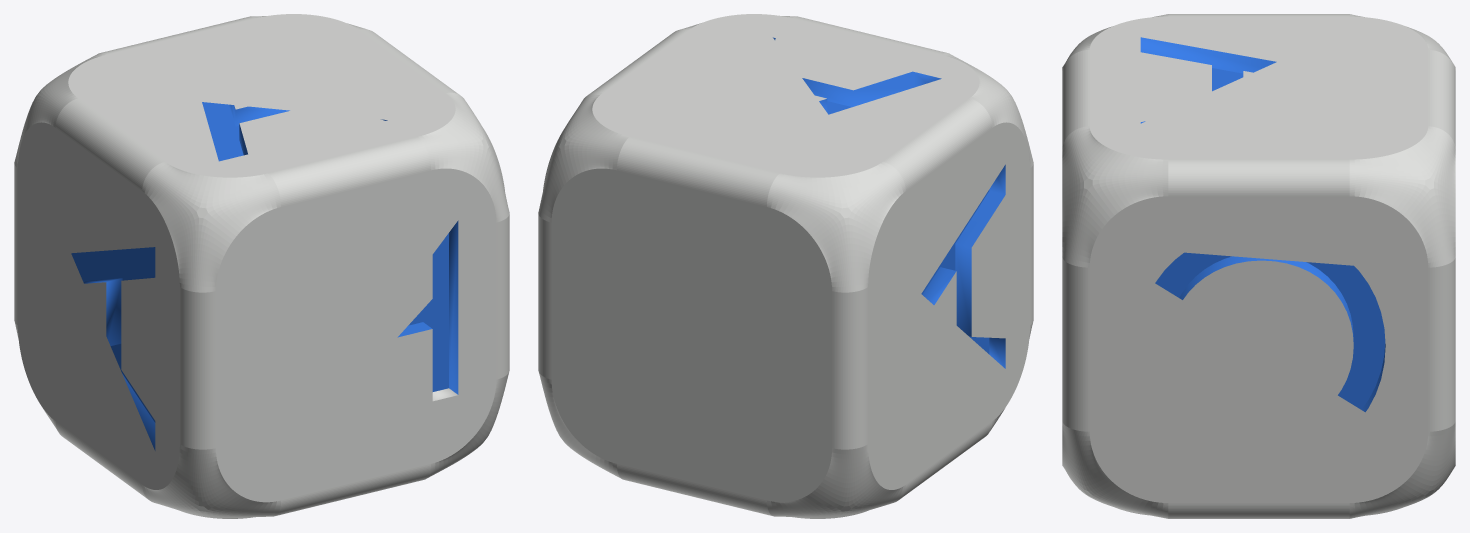
The model's file is BoggleDice.fbx_Die6.fbx.
3 views of the same model, side by side, from view 1: azimuth 30°, elevation 25°; view 2: azimuth 150°, elevation 25°; view 3: azimuth 270°, elevation 25° (orthographic). The views are drawn at different scales.
Visible parts, largest first — view 1: Die6; view 2: Die6; view 3: Die6.
Boxes of the visible parts, x1,y1,x2,y2 form: Die6: (14, 14, 509, 518); Die6: (538, 14, 1033, 518); Die6: (1062, 14, 1455, 518).
Bounding box in the file's own units: 200 × 200 × 200.
